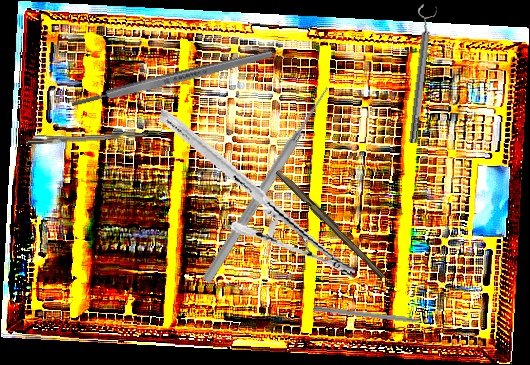Chopper: (25, 125, 165, 145)
Fixation Ring: (401, 3, 440, 145)
Needle Holder: (136, 109, 379, 279)
Pusher: (200, 83, 334, 286), (313, 305, 437, 328)
Scalpel Handle: (273, 167, 389, 280), (70, 48, 274, 110)
